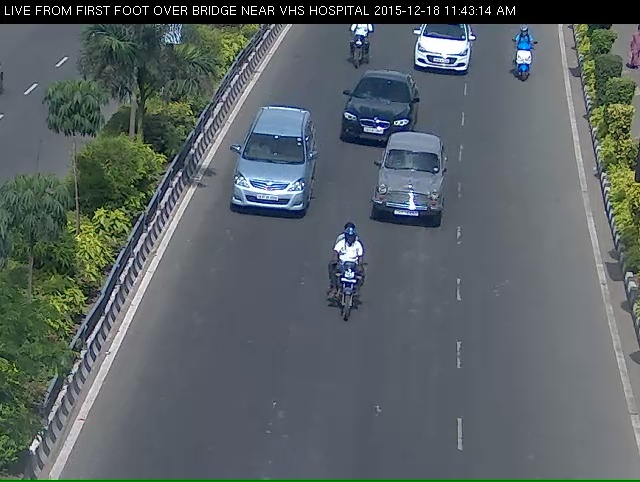Car: (234, 113, 318, 241), (370, 141, 454, 241), (335, 73, 419, 153), (410, 19, 475, 85)
Person: (328, 234, 368, 348), (508, 30, 545, 92), (339, 23, 376, 73)
